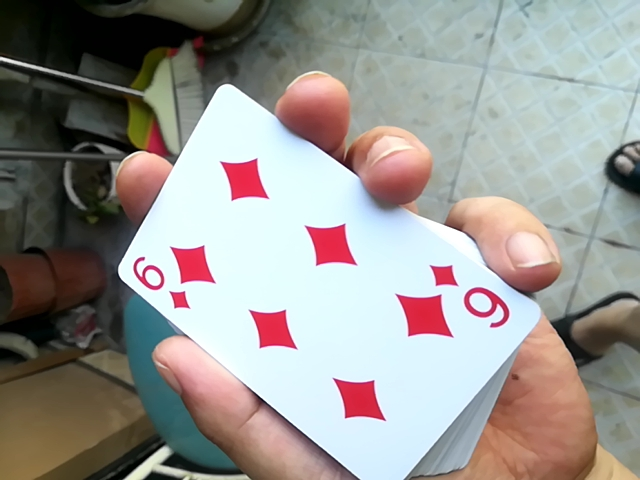fk 6: (118, 74, 535, 479)
